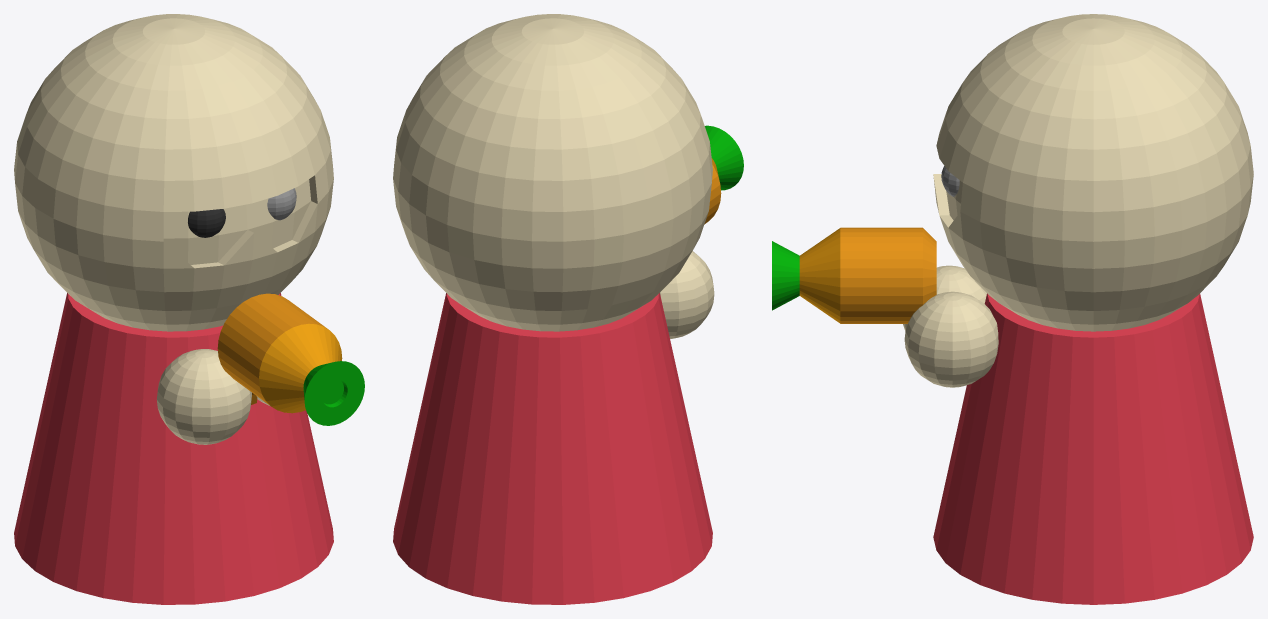
The model's file is player_red.fbx.
3 views of the same model, side by side, from view 1: azimuth 30°, elevation 25°; view 2: azimuth 150°, elevation 25°; view 3: azimuth 270°, elevation 25° (orthographic).
Parts seen in each view (by area): view 1: 球, 円柱, 球.004, 円柱.003, 円柱.002, 円柱.001, 球.002, 球.001; view 2: 球, 円柱, 球.004, 円柱.001; view 3: 球, 円柱, 円柱.003, 球.003, 円柱.002, 円柱.001, 球.004.
Part boxes in pixels (box(x1,y1,x2,y2)): 球: box(14, 14, 333, 331); 円柱: box(14, 293, 333, 604); 球.004: box(156, 349, 251, 444); 円柱.003: box(217, 293, 328, 405); 円柱.002: box(259, 323, 342, 413); 円柱.001: box(303, 361, 364, 425); 球.002: box(188, 209, 225, 237); 球.001: box(267, 188, 296, 220); 球: box(393, 14, 712, 331); 円柱: box(393, 293, 712, 604); 球.004: box(660, 251, 714, 338); 円柱.001: box(705, 125, 743, 190); 球: box(933, 14, 1253, 331); 円柱: box(933, 293, 1253, 604); 円柱.003: box(840, 227, 936, 323); 球.003: box(904, 291, 998, 387); 円柱.002: box(799, 228, 840, 323); 円柱.001: box(772, 241, 799, 310); 球.004: box(903, 265, 986, 330).
Bounding box in the file's own units: 200 × 350 × 301.
